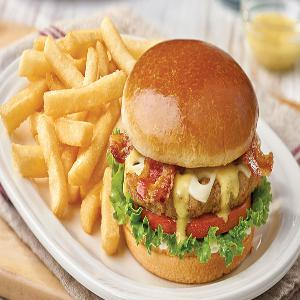cheeseburger_475cal: (131, 32, 279, 286)
fries_350cal: (8, 27, 126, 241)
